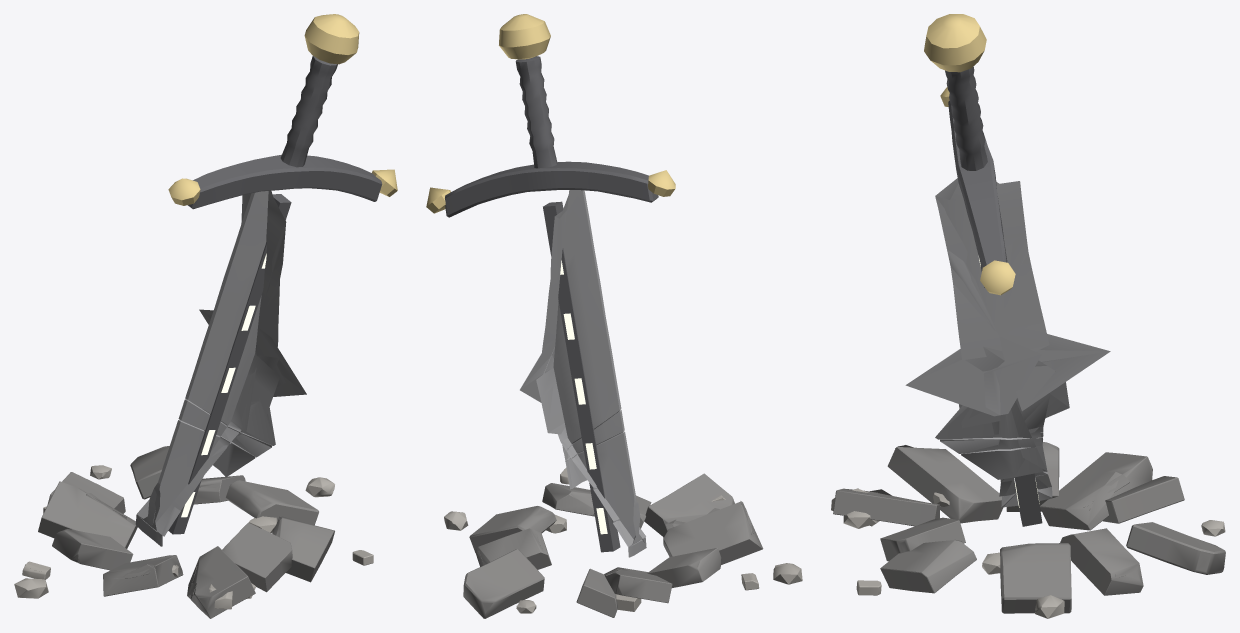
File: giant_sword.glb
The picture shows the model from 3 angles, left to right: view 1: azimuth 30°, elevation 25°; view 2: azimuth 150°, elevation 25°; view 3: azimuth 270°, elevation 25°; orthographic projection. The views are drawn at different scales.
Visible parts, largest first — view 1: blade, guard, heave4, fuller_ns, heave8, heave7, grip, heave0, heave9, heave5, pommel, heave6 (+5 smaller); view 2: blade, guard, fuller_ns, heave6, heave2, heave7, grip, pommel, heave0, heave5, heave1, heave4 (+4 smaller); view 3: blade, heave6, heave4, heave0, guard, heave1, heave9, heave2, pommel, grip, heave7, heave3 (+5 smaller).
Boxes of the visible parts, x1,y1,x2,y2 form: blade: (135,190,306,546); guard: (188,154,382,209); heave4: (38,481,137,548); fuller_ns: (168,194,291,534); heave8: (222,522,292,592); heave7: (187,546,255,618); grip: (280,56,337,167); heave0: (226,480,318,525); heave9: (272,516,334,582); heave5: (52,529,133,570); pommel: (304,14,359,64); heave6: (103,555,183,596); blade: (520,190,646,557); guard: (445,161,658,217); fuller_ns: (543,201,620,552); heave6: (663,501,763,564); heave2: (463,549,544,618); heave7: (644,473,734,536); grip: (515,56,557,168); pommel: (499,14,550,59); heave0: (469,506,556,552); heave5: (647,548,721,587); heave1: (475,528,551,569); heave4: (604,567,672,603); blade: (905,178,1110,507); heave6: (887,445,1003,523); heave4: (1040,452,1152,530); heave0: (1000,543,1071,613); guard: (948,101,1007,268); heave1: (1060,528,1143,595); heave9: (880,539,976,593); heave2: (1126,522,1225,574); pommel: (924,14,986,72); grip: (945,66,987,170); heave7: (833,488,939,526); heave3: (1103,476,1184,523).
Bounding box in the file's own units: 6.62 × 8.79 × 5.21.
